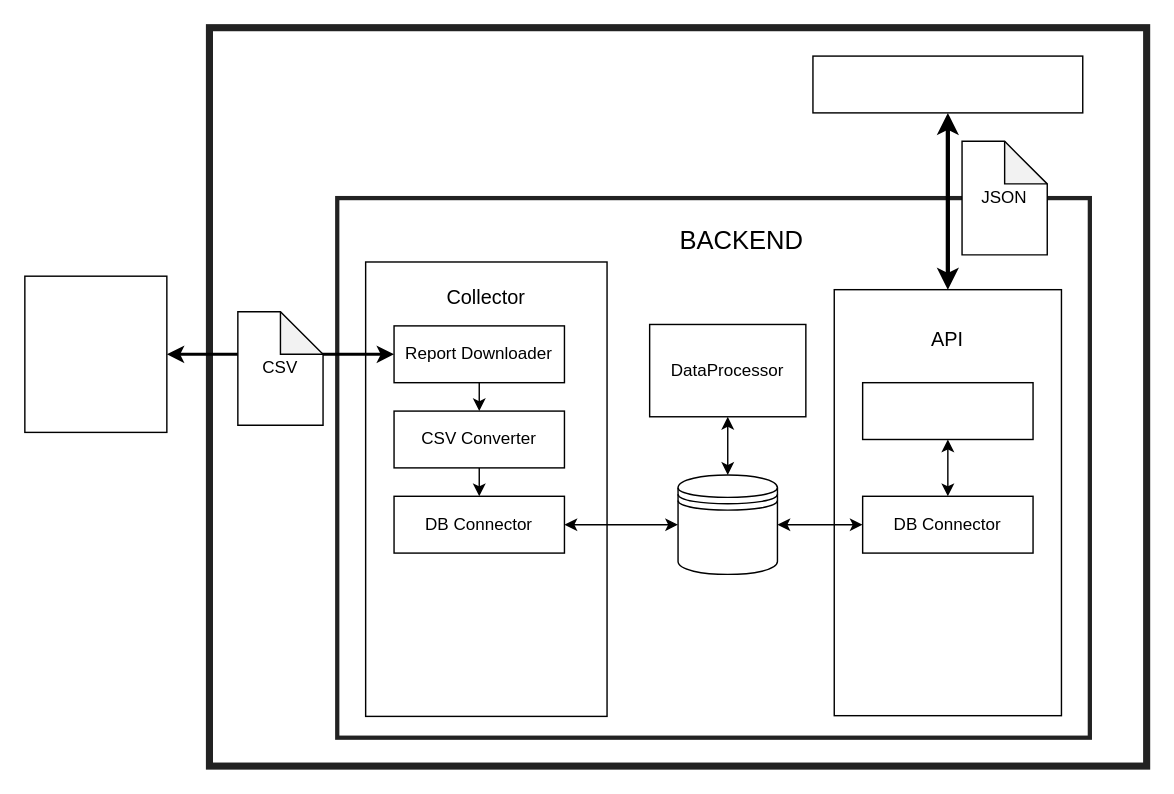
Some shapes in this 1174 by 794 pixel diagram are drawn without their labels. The box of each missing label's shape, as (x1, y1, x2, y2) in pixels:
Data Inspector: (861, 381, 1033, 439)
FRONTEND: (812, 55, 1083, 113)
MongoDB: (677, 474, 777, 574)
Portal da Transparência: (23, 275, 167, 432)
